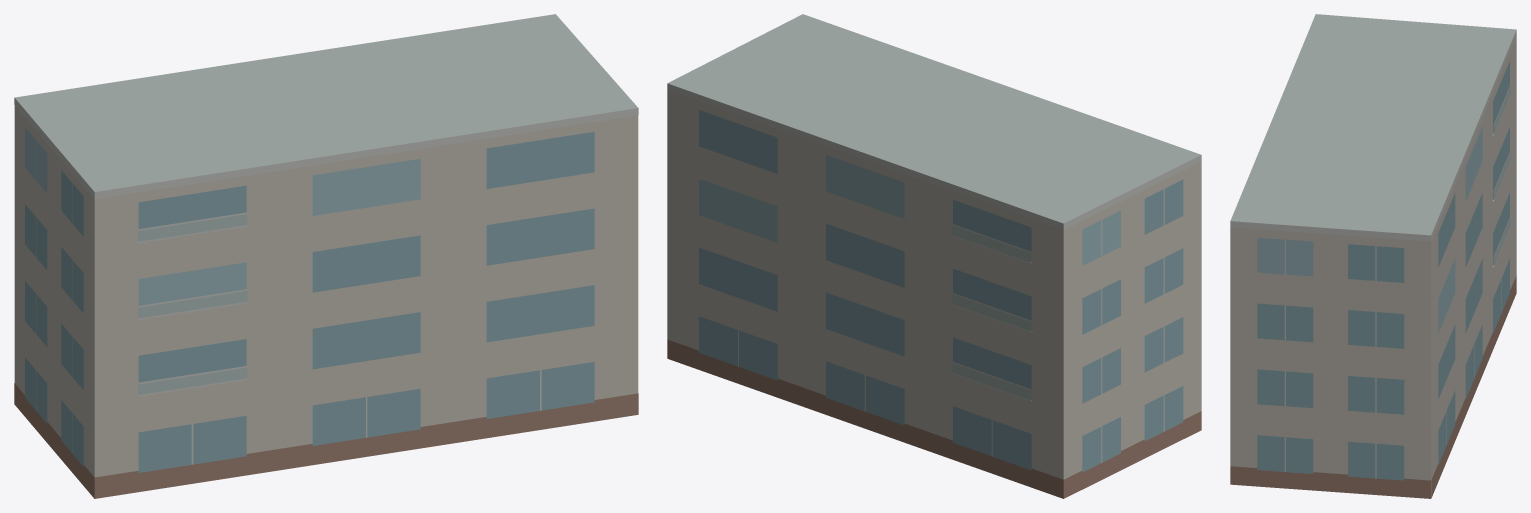
The model's file is survey-upis-32941131.glb.
The picture shows the model from 3 angles, left to right: view 1: azimuth 30°, elevation 25°; view 2: azimuth 150°, elevation 25°; view 3: azimuth 270°, elevation 25°; orthographic projection. The views are drawn at different scales.
Visible parts, largest first — view 1: survey-upis-32941131.tmp; view 2: survey-upis-32941131.tmp; view 3: survey-upis-32941131.tmp.
Part boxes in pixels (x1,y1,x2,y2): survey-upis-32941131.tmp: [14, 14, 638, 498]; survey-upis-32941131.tmp: [667, 14, 1201, 498]; survey-upis-32941131.tmp: [1230, 14, 1516, 498].
Size of the model in its own units: 18.76 by 10.4 by 10.26.
